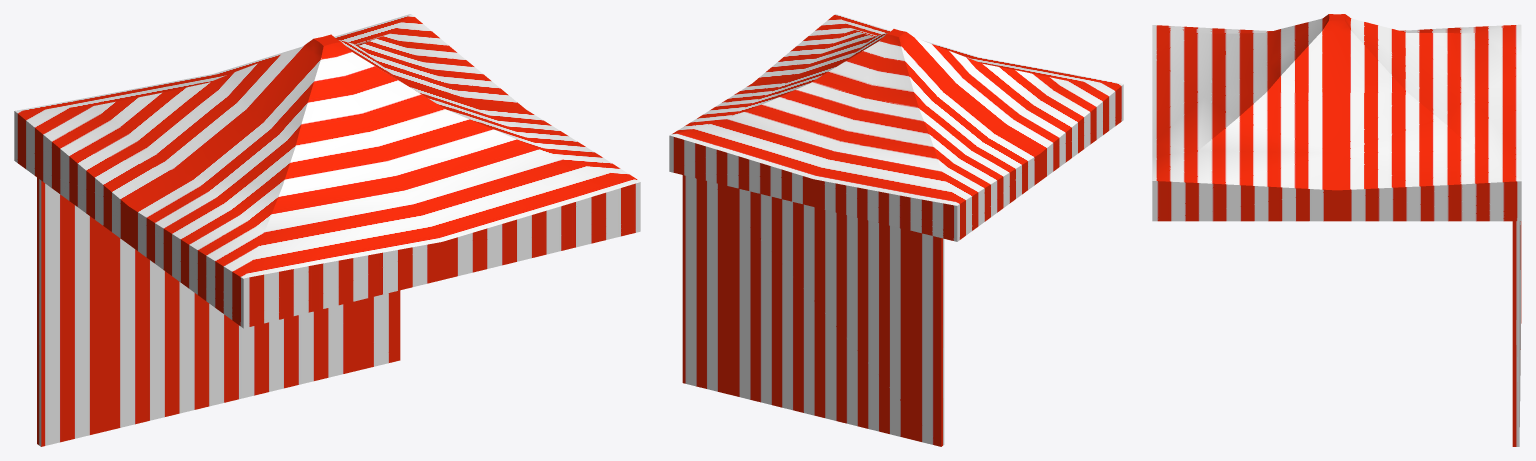
File: FD_CK_BoothRoof.obj
The picture shows the model from 3 angles, left to right: view 1: azimuth 30°, elevation 25°; view 2: azimuth 150°, elevation 25°; view 3: azimuth 270°, elevation 25°; orthographic projection. The views are drawn at different scales.
Parts seen in each view (by area): view 1: tent; view 2: tent; view 3: tent.
Part boxes in pixels (x1=…): tent: x1=14, y1=14, x2=640, y2=446; tent: x1=669, y1=14, x2=1123, y2=446; tent: x1=1152, y1=14, x2=1521, y2=446.
Bounding box in the file's own units: 12.57 × 13.44 × 12.57.
